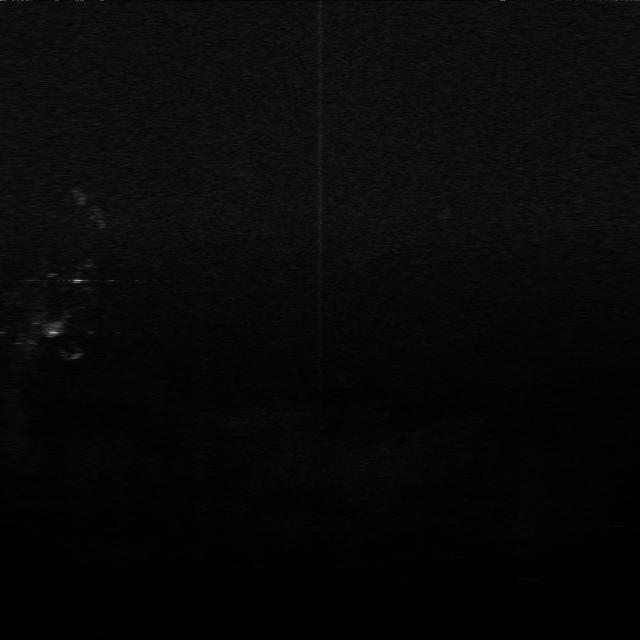rov: (42, 319, 68, 341)
